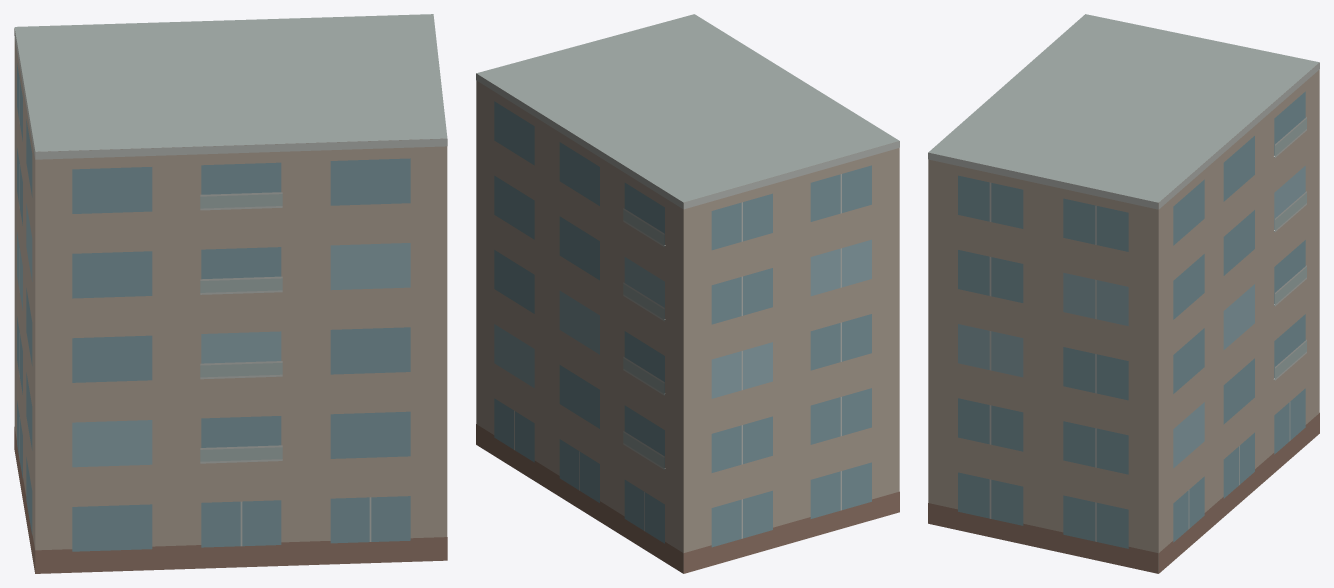
File: survey-upis-32891603.glb
3 renders of one model, left to right at view 1: azimuth 30°, elevation 25°; view 2: azimuth 150°, elevation 25°; view 3: azimuth 270°, elevation 25°, orthographic. The views are drawn at different scales.
Visible parts, largest first — view 1: survey-upis-32891603.tmp; view 2: survey-upis-32891603.tmp; view 3: survey-upis-32891603.tmp.
Part boxes in pixels (x1,y1,x2,y2): survey-upis-32891603.tmp: [14, 14, 447, 573]; survey-upis-32891603.tmp: [476, 14, 899, 573]; survey-upis-32891603.tmp: [928, 14, 1319, 573].
Size of the model in its own units: 14.3 by 13.1 by 12.54.
